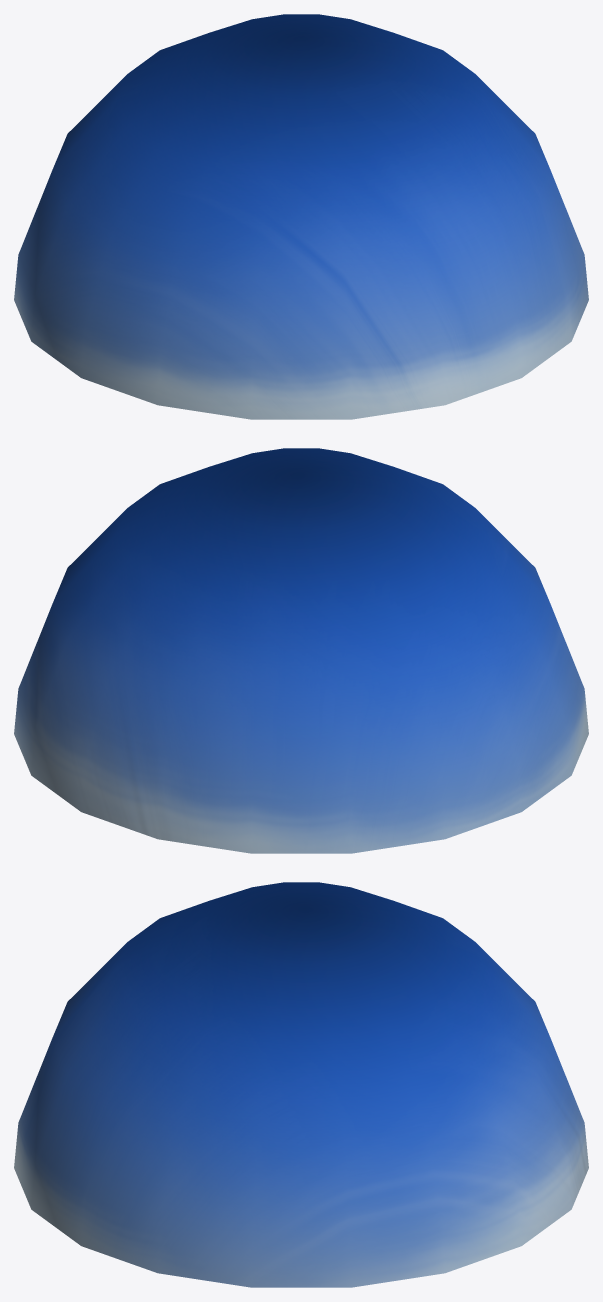
File: sora.FBX
3 views of the same model, one above another, from view 1: azimuth 30°, elevation 25°; view 2: azimuth 150°, elevation 25°; view 3: azimuth 270°, elevation 25° (orthographic).
Parts seen in each view (by area): view 1: sora; view 2: sora; view 3: sora.
Part boxes in pixels (<box>): sora: <box>14,14,588,419</box>; sora: <box>14,448,588,853</box>; sora: <box>14,882,588,1287</box>.
Bounding box in the file's own units: 271 × 138 × 276.
